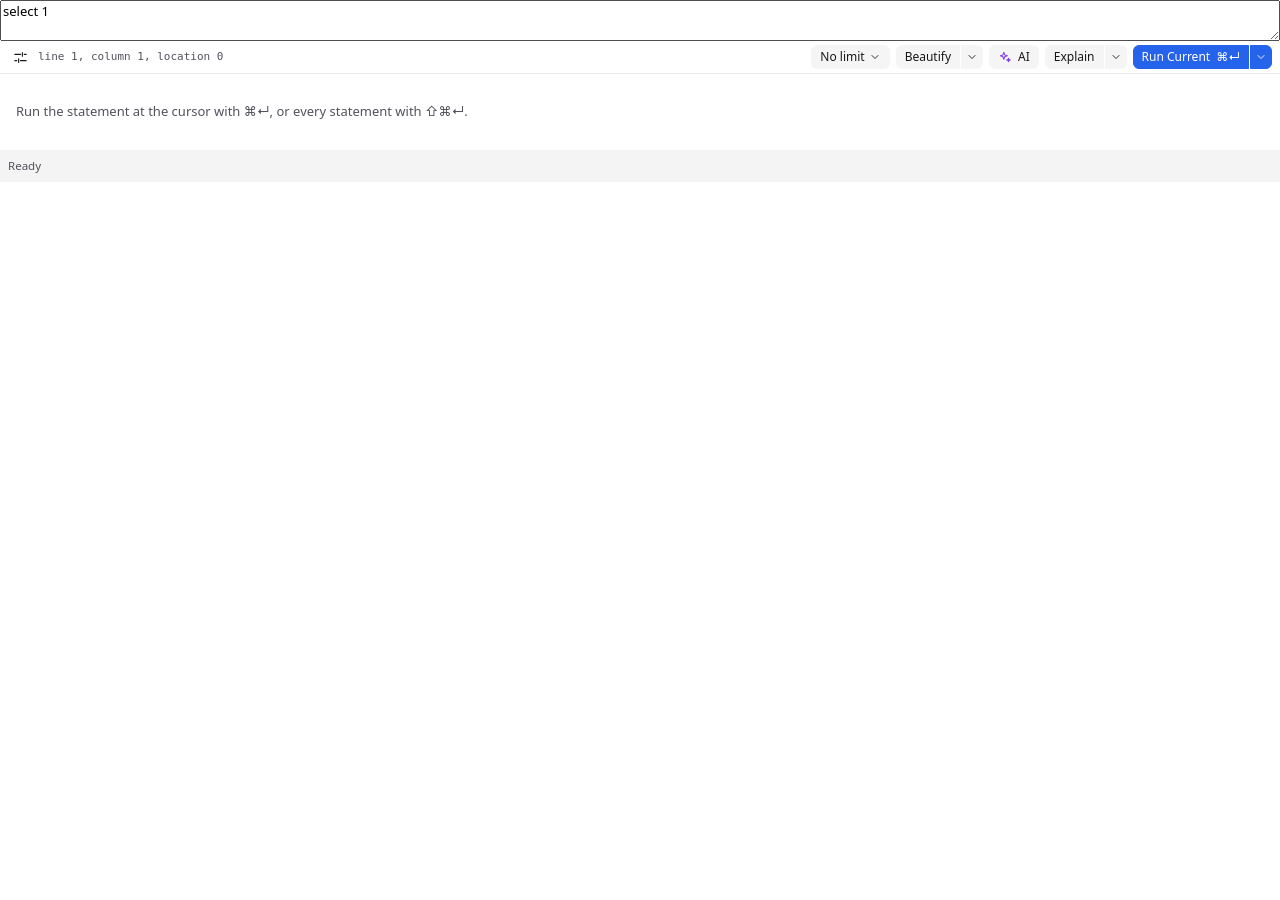
it: runs Explain Analyze from the menu and the command after consent
The image size is (1280, 900).
Click the button named "Explain options" at x=1116, y=57, box [1104,45,1126,69]
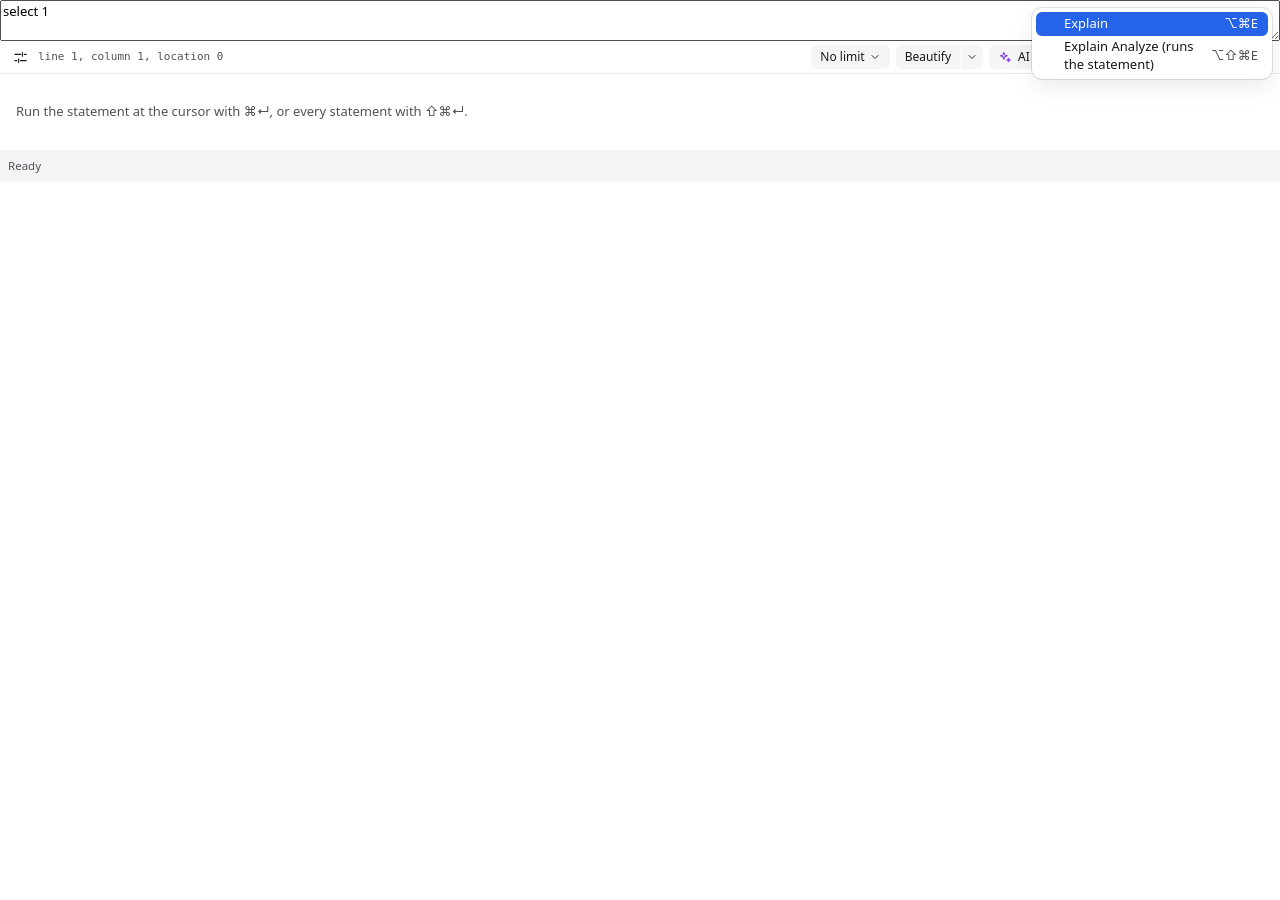
Click the menu item "Explain Analyze (runs the statement) ⌥⇧⌘E" at x=1152, y=56, box [1036,36,1268,75]
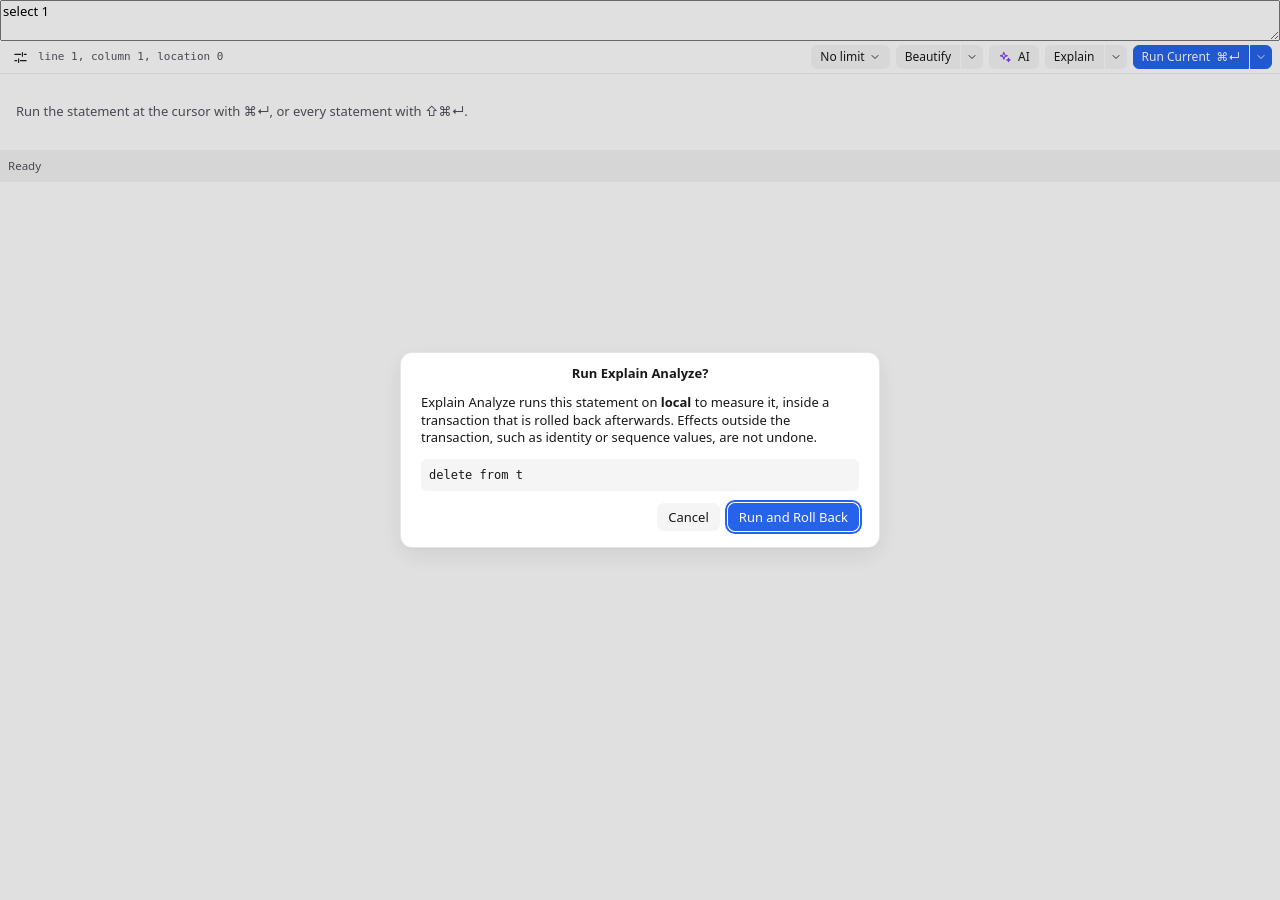
Expected: the text "delete from t" is shown, [421,459,859,491]
Click the button "Run and Roll Back" at x=793, y=517, box [728,503,859,531]
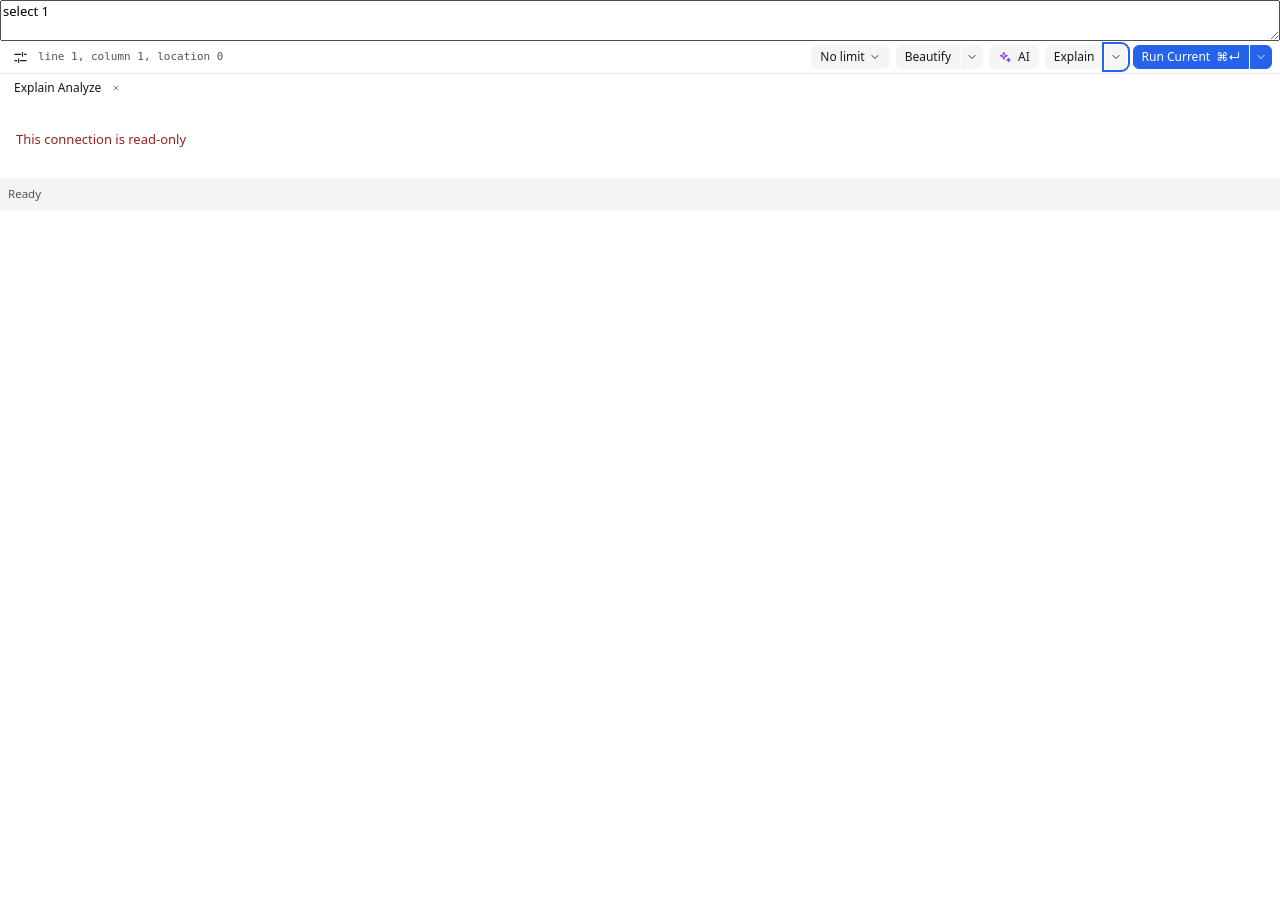
Expected: the tab "Explain Analyze" is shown, [6,78,109,98]
Expected: the message "This connection is read-only" is shown, [16,130,186,148]
